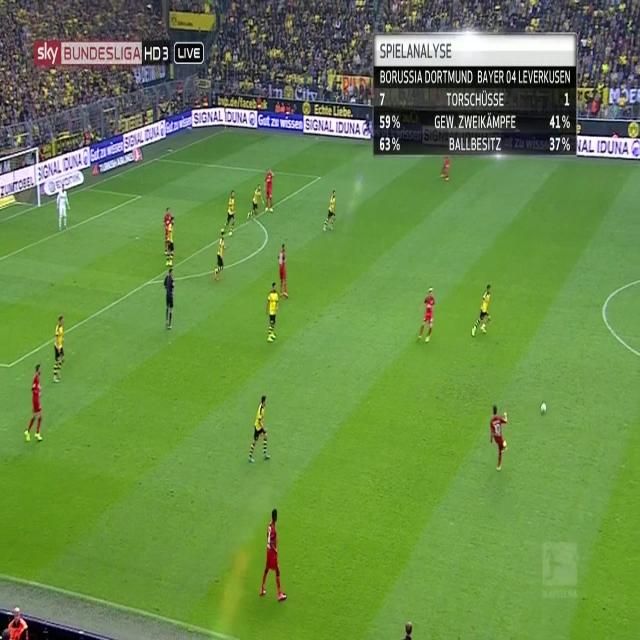Ball: (539, 399, 548, 416)
Goalkeeper: (56, 180, 70, 234)
Player: (259, 506, 286, 604), (24, 360, 46, 444), (246, 392, 271, 465), (488, 402, 510, 472), (471, 280, 494, 340), (51, 313, 68, 388), (416, 286, 435, 348), (264, 280, 279, 348), (212, 231, 228, 287), (321, 188, 339, 237), (246, 182, 264, 224), (224, 186, 238, 233), (278, 241, 289, 300), (264, 165, 276, 217), (165, 216, 176, 269), (440, 152, 454, 183), (164, 207, 172, 251)
Referee: (162, 265, 176, 331)
